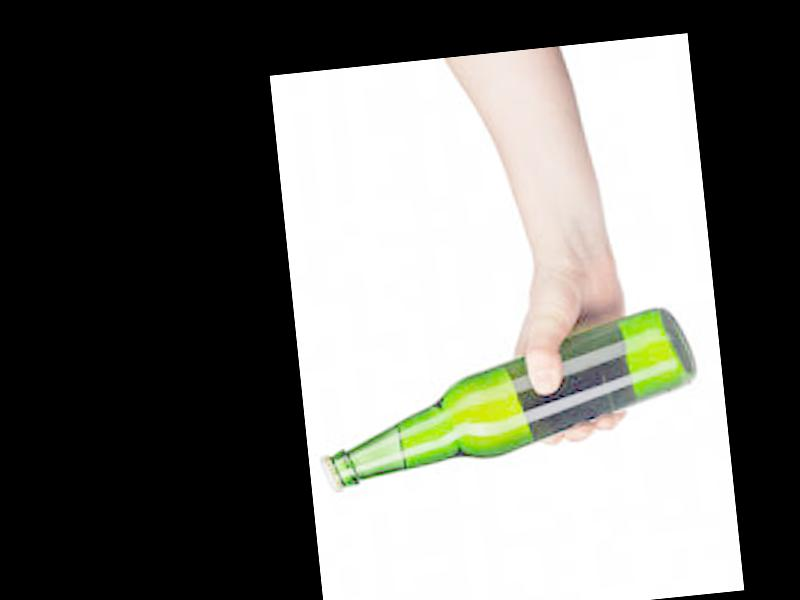Beer: (308, 304, 705, 493)
